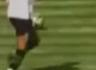ball: (30, 11, 51, 31)
